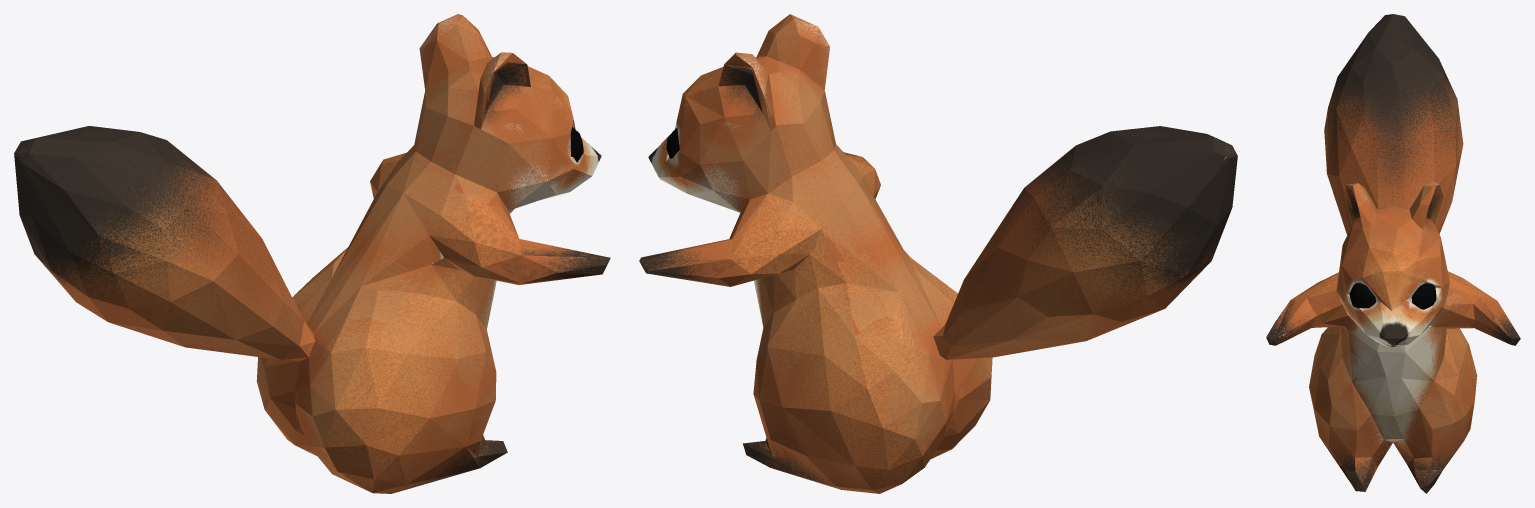
Rendered from squirrel  f.fbx.
3 views of the same model, side by side, from view 1: azimuth 30°, elevation 25°; view 2: azimuth 150°, elevation 25°; view 3: azimuth 270°, elevation 25° (orthographic). The views are drawn at different scales.
Visible parts, largest first — view 1: Sphere.001; view 2: Sphere.001; view 3: Sphere.001.
Part boxes in pixels (x1,y1,x2,y2): Sphere.001: (14, 14, 610, 493); Sphere.001: (639, 14, 1237, 493); Sphere.001: (1266, 14, 1520, 493).
Size of the model in its own units: 548 by 272 by 375.
2 materials, 1 textured.
